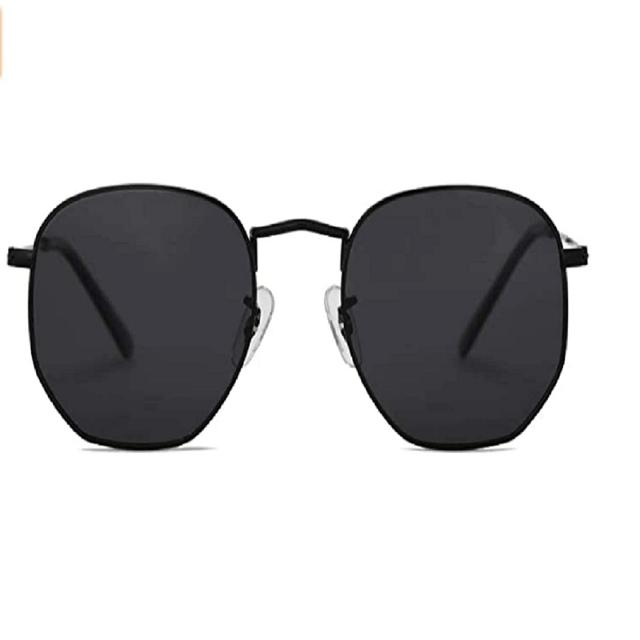suspicious-objects: (20, 160, 587, 460)
